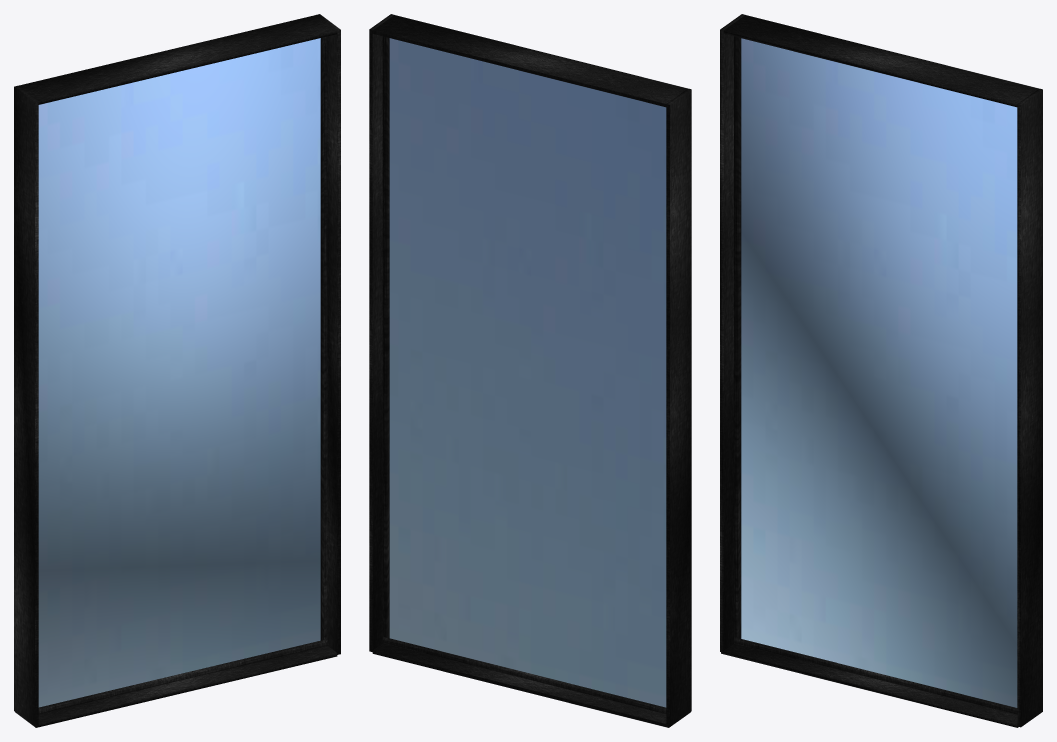
Rendered from Ventana13.obj.
3 views of the same model, side by side, from view 1: azimuth 30°, elevation 25°; view 2: azimuth 150°, elevation 25°; view 3: azimuth 330°, elevation 25° (orthographic).
Visible parts, largest first — view 1: polySurface85; view 2: polySurface85; view 3: polySurface85.
Part boxes in pixels (left/top/right/bottom): polySurface85: left=14, top=14, right=340, bottom=727; polySurface85: left=369, top=14, right=691, bottom=727; polySurface85: left=720, top=14, right=1042, bottom=727.
Bounding box in the file's own units: 1.11 × 2.17 × 0.148.
Materials: 2 (2 with a texture image).
